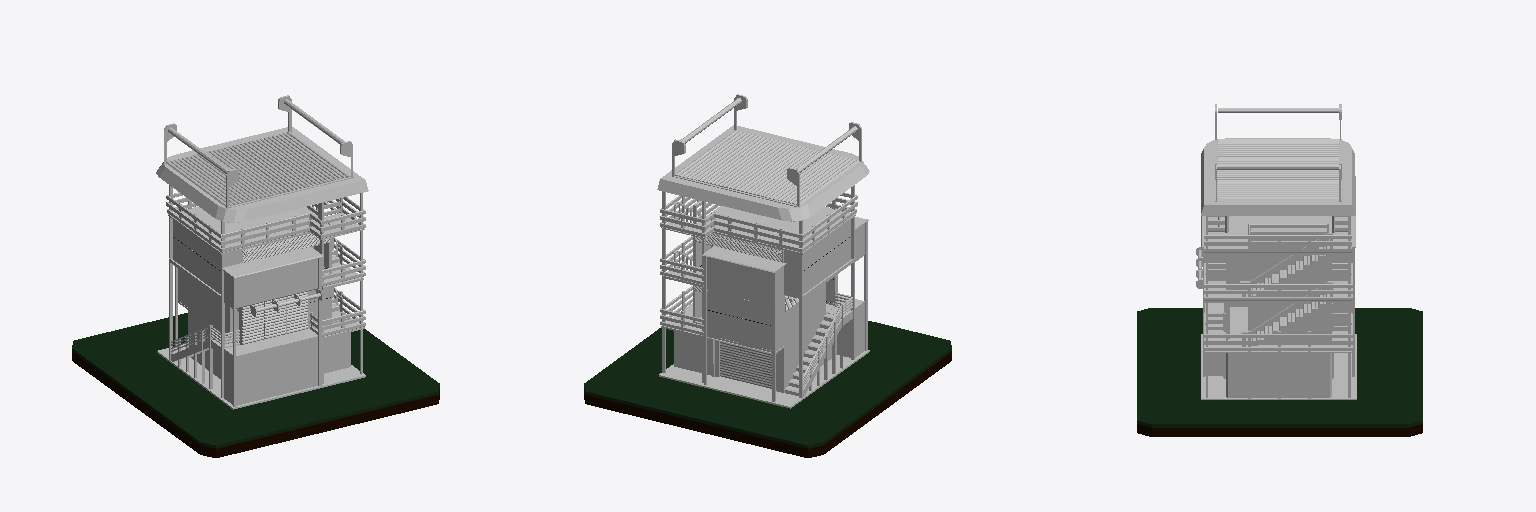
The picture shows the model from 3 angles: view 1: azimuth 30°, elevation 25°; view 2: azimuth 150°, elevation 25°; view 3: azimuth 270°, elevation 25°; orthographic projection.
Visible parts, largest first — view 1: Cube.032_Cube.020, Plane, Cube.000_Cube.053, Cube.014_Cube.015, Cube.011_Cube.015; view 2: Cube.032_Cube.020, Plane, Cube.000_Cube.053, Cube.014_Cube.015, Cube.011_Cube.015; view 3: Cube.032_Cube.020, Plane, Cube.022_Cube.051, Cube.014_Cube.015, Cube.011_Cube.015.
Part boxes in pixels (bbox=[...]): Cube.032_Cube.020: bbox=[156, 127, 368, 409]; Plane: bbox=[72, 313, 439, 457]; Cube.000_Cube.053: bbox=[173, 220, 330, 326]; Cube.014_Cube.015: bbox=[227, 95, 353, 192]; Cube.011_Cube.015: bbox=[163, 123, 289, 208]; Cube.032_Cube.020: bbox=[657, 125, 869, 408]; Plane: bbox=[584, 321, 951, 457]; Cube.000_Cube.053: bbox=[708, 220, 850, 350]; Cube.014_Cube.015: bbox=[672, 94, 797, 191]; Cube.011_Cube.015: bbox=[736, 122, 861, 206]; Cube.032_Cube.020: bbox=[1201, 138, 1356, 399]; Plane: bbox=[1137, 308, 1422, 436]; Cube.022_Cube.051: bbox=[1228, 246, 1330, 305]; Cube.014_Cube.015: bbox=[1215, 160, 1341, 201]; Cube.011_Cube.015: bbox=[1215, 104, 1341, 159].
Size of the model in its own units: 15.44 by 15.13 by 16.